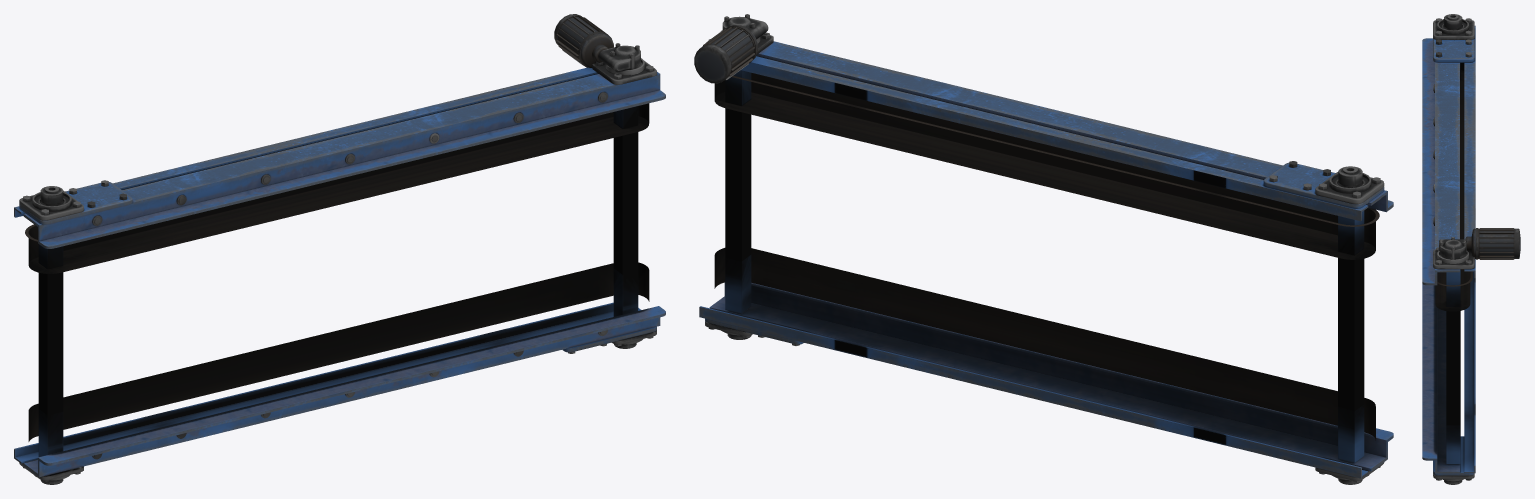
File: conveyor_without_belt.obj
The picture shows the model from 3 angles, left to right: view 1: azimuth 30°, elevation 25°; view 2: azimuth 150°, elevation 25°; view 3: azimuth 270°, elevation 25°; orthographic projection. The views are drawn at different scales.
Visible parts, largest first — view 1: Conveyor01Frame_Untitled.002, Conveyor01Frame01_Untitled, Conveyor01Frame02_Untitled.004; view 2: Conveyor01Frame_Untitled.002, Conveyor01Frame02_Untitled.004, Conveyor01Frame01_Untitled; view 3: Conveyor01Frame01_Untitled, Conveyor01Frame02_Untitled.004, Conveyor01Frame_Untitled.002.
Part boxes in pixels (box(x1,y1,x2,y2)): Conveyor01Frame_Untitled.002: box(25, 103, 649, 456); Conveyor01Frame01_Untitled: box(14, 14, 665, 248); Conveyor01Frame02_Untitled.004: box(14, 302, 665, 484); Conveyor01Frame_Untitled.002: box(714, 70, 1379, 463); Conveyor01Frame02_Untitled.004: box(699, 282, 1393, 484); Conveyor01Frame01_Untitled: box(694, 14, 1393, 221); Conveyor01Frame01_Untitled: box(1422, 14, 1520, 285); Conveyor01Frame02_Untitled.004: box(1422, 271, 1475, 484); Conveyor01Frame_Untitled.002: box(1435, 62, 1472, 464).
Size of the model in its own units: 2 by 0.9422 by 0.3397.
1 material, 1 textured.
